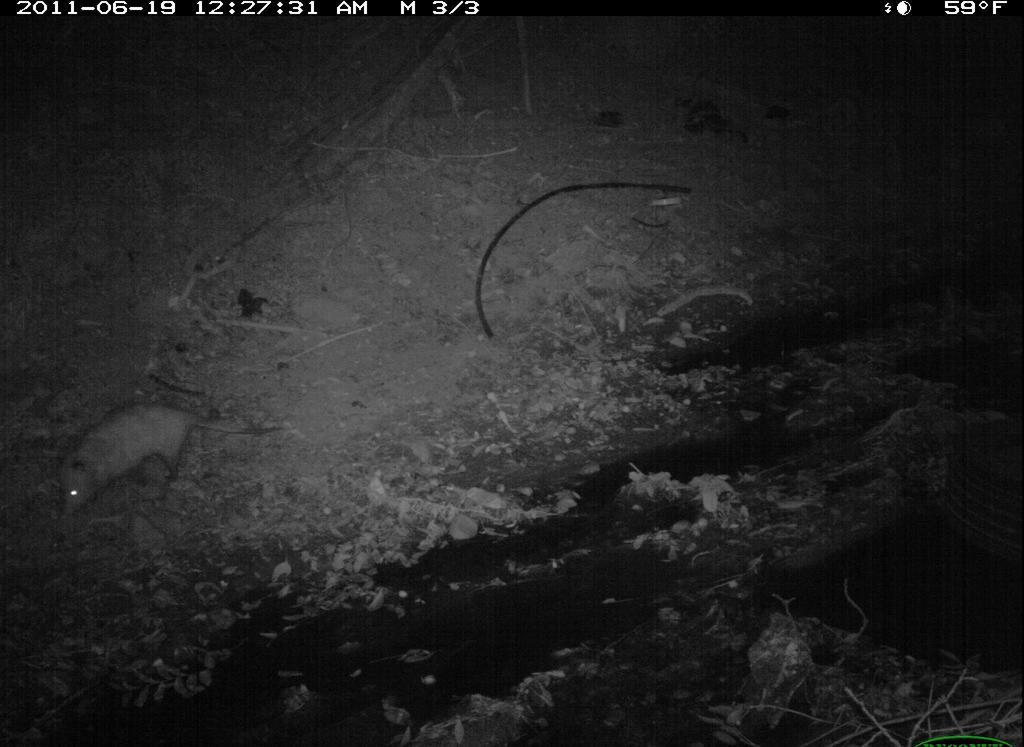opossum: (36, 400, 299, 518)
